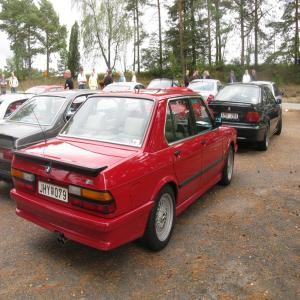Vehicle-registration-plate: (39, 180, 70, 202), (221, 113, 239, 120)
